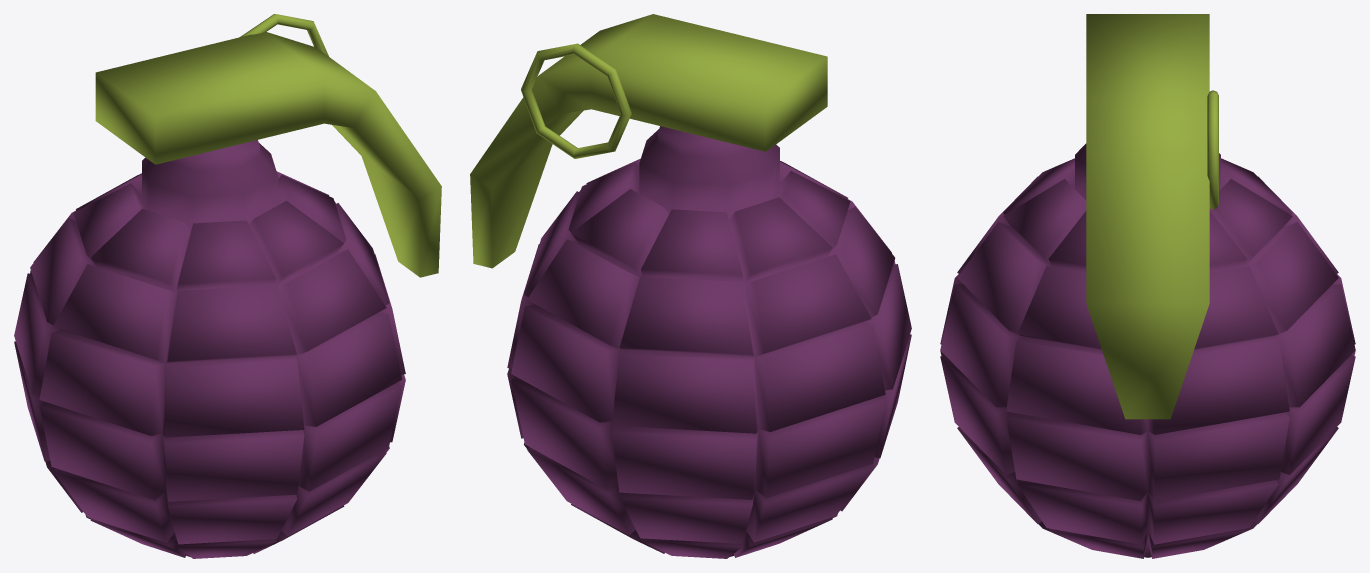
Rendered from Granade.fbx.
3 renders of one model, left to right at view 1: azimuth 30°, elevation 25°; view 2: azimuth 150°, elevation 25°; view 3: azimuth 270°, elevation 25°, orthographic. The views are drawn at different scales.
Visible parts, largest first — view 1: Sphere; view 2: Sphere; view 3: Sphere.
Boxes of the visible parts, box(x1,y1,x2,y2) form: Sphere: box(14, 14, 441, 558); Sphere: box(470, 14, 911, 558); Sphere: box(940, 14, 1355, 558).
Bounding box in the file's own units: 92.07 × 108 × 81.81.
